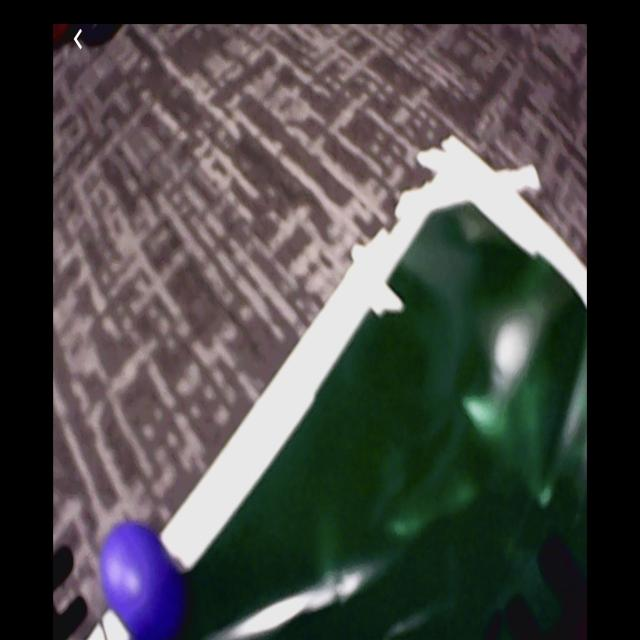ball: (103, 520, 173, 636)
